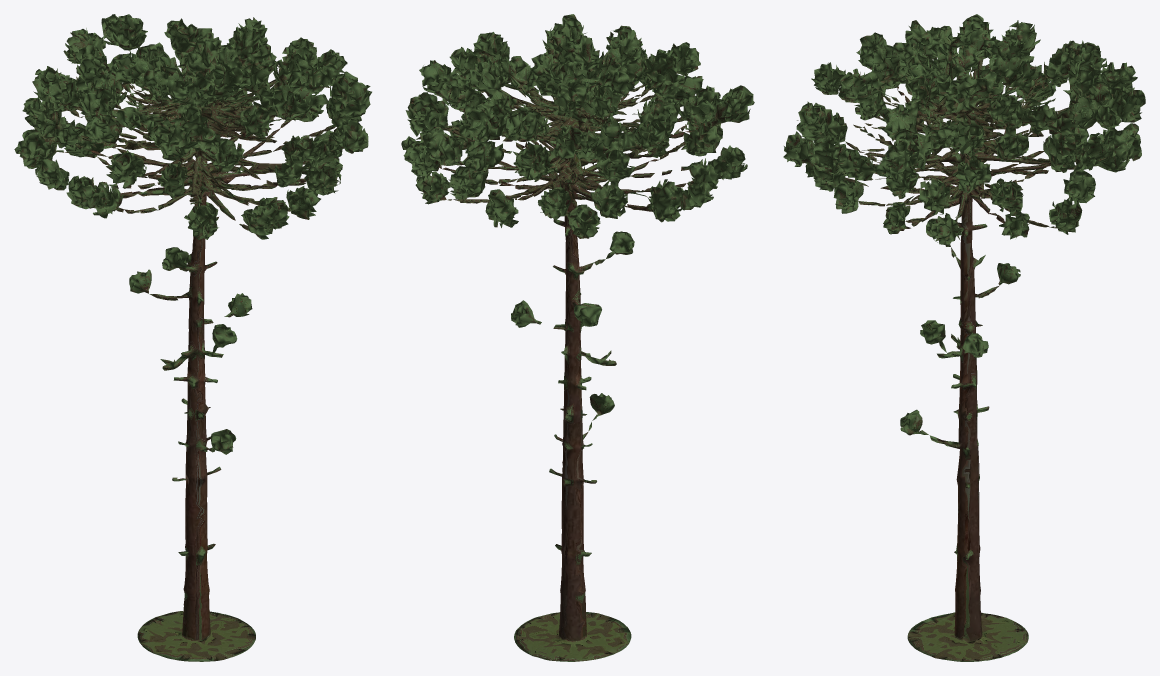
File: araucaria.glb
3 views of the same model, side by side, from view 1: azimuth 30°, elevation 25°; view 2: azimuth 150°, elevation 25°; view 3: azimuth 270°, elevation 25° (orthographic).
Visible parts, largest first — view 1: mesh_0; view 2: mesh_0; view 3: mesh_0.
Boxes of the visible parts, box(x1,y1,x2,y2) form: mesh_0: box(14, 14, 371, 661); mesh_0: box(401, 14, 754, 661); mesh_0: box(783, 14, 1145, 661).
Size of the model in its own units: 1.08 by 2 by 1.12.
Materials: 1 (1 with a texture image).
